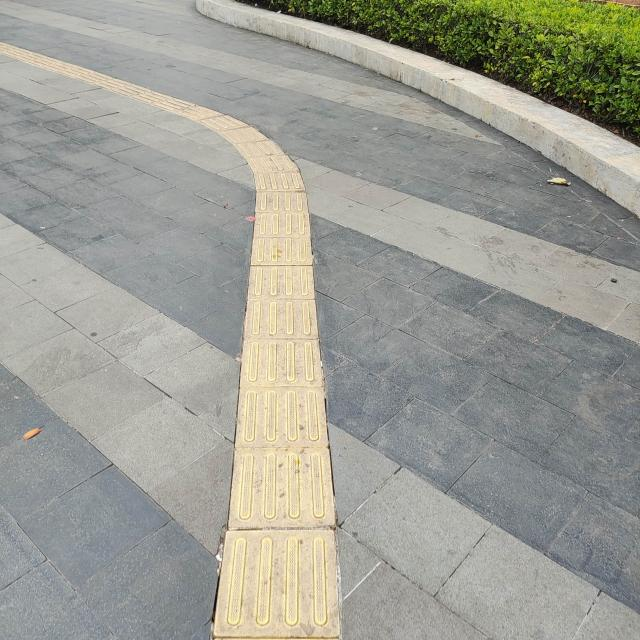lurus: (234, 175, 338, 640)
